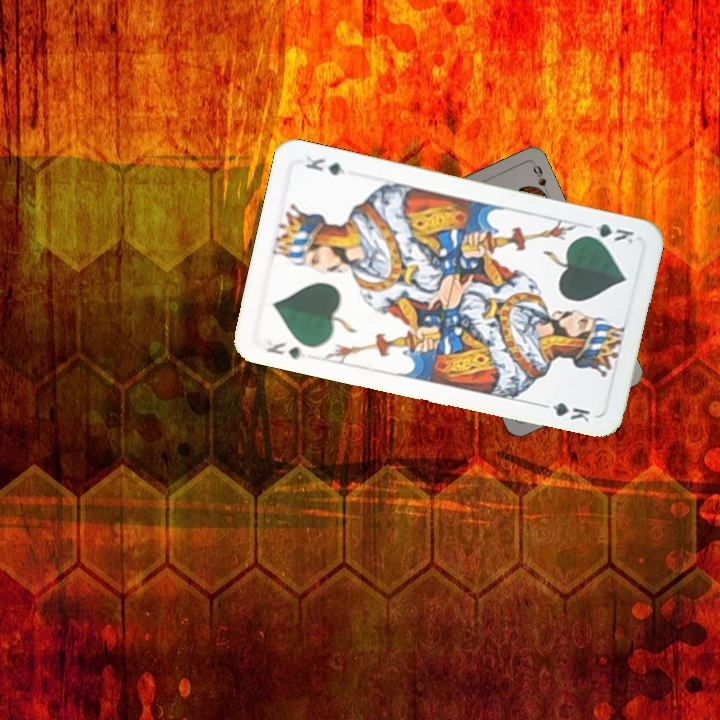GK: (579, 219, 637, 246), (263, 335, 308, 362)
